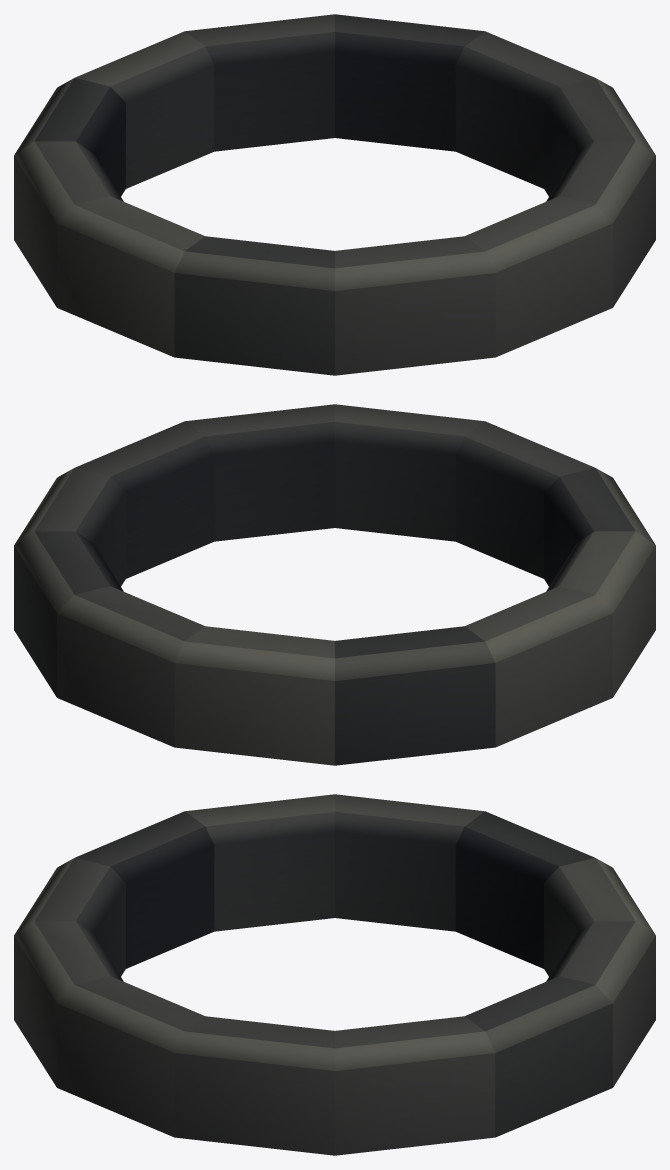
File: stone_ring.fbx
3 renders of one model, top to bottom at view 1: azimuth 30°, elevation 25°; view 2: azimuth 150°, elevation 25°; view 3: azimuth 270°, elevation 25°, orthographic.
Parts seen in each view (by area): view 1: stone_ring; view 2: stone_ring; view 3: stone_ring.
Boxes of the visible parts, x1=… form: stone_ring: x1=14, y1=14, x2=655, y2=375; stone_ring: x1=14, y1=404, x2=655, y2=765; stone_ring: x1=14, y1=794, x2=655, y2=1155.
Bounding box in the file's own units: 102 × 17.23 × 102.
